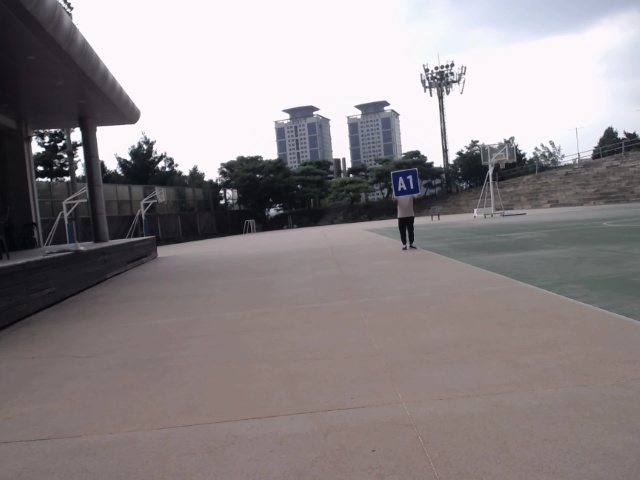delivery_a1: (391, 168, 421, 198)
